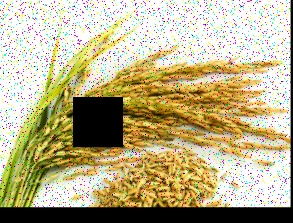rice: (22, 43, 287, 184)
